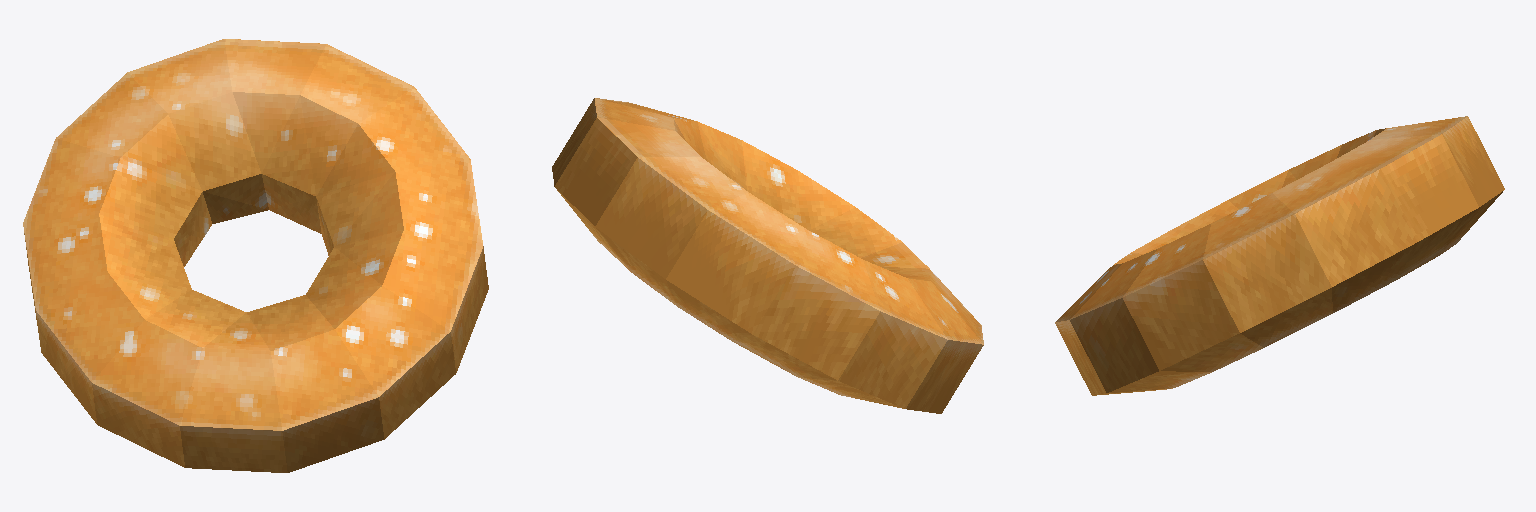
3 views of the same model, side by side, from view 1: azimuth 30°, elevation 25°; view 2: azimuth 150°, elevation 25°; view 3: azimuth 270°, elevation 25° (orthographic).
Parts seen in each view (by area): view 1: donut; view 2: donut; view 3: donut.
Boxes of the visible parts, x1=… form: donut: x1=23, y1=39, x2=488, y2=472; donut: x1=552, y1=98, x2=983, y2=413; donut: x1=1055, y1=116, x2=1504, y2=395.
Size of the model in its own units: 1.59 by 1.11 by 1.55.
1 materials, 1 textured.